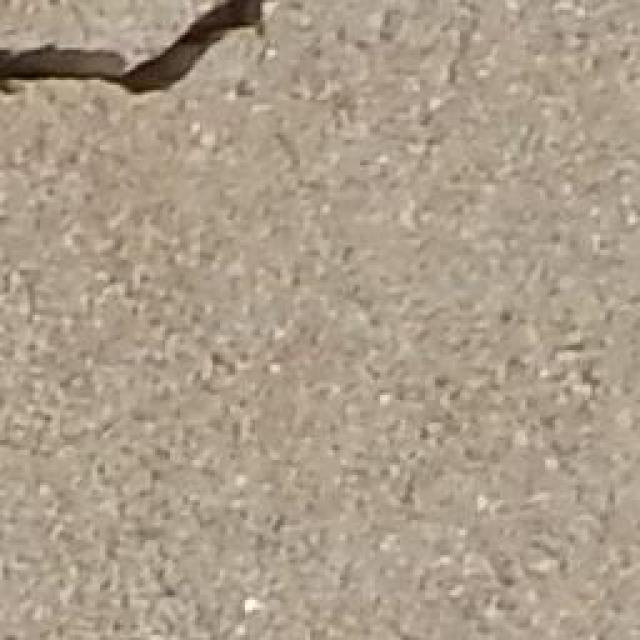concrete-crack: (0, 0, 273, 102)
